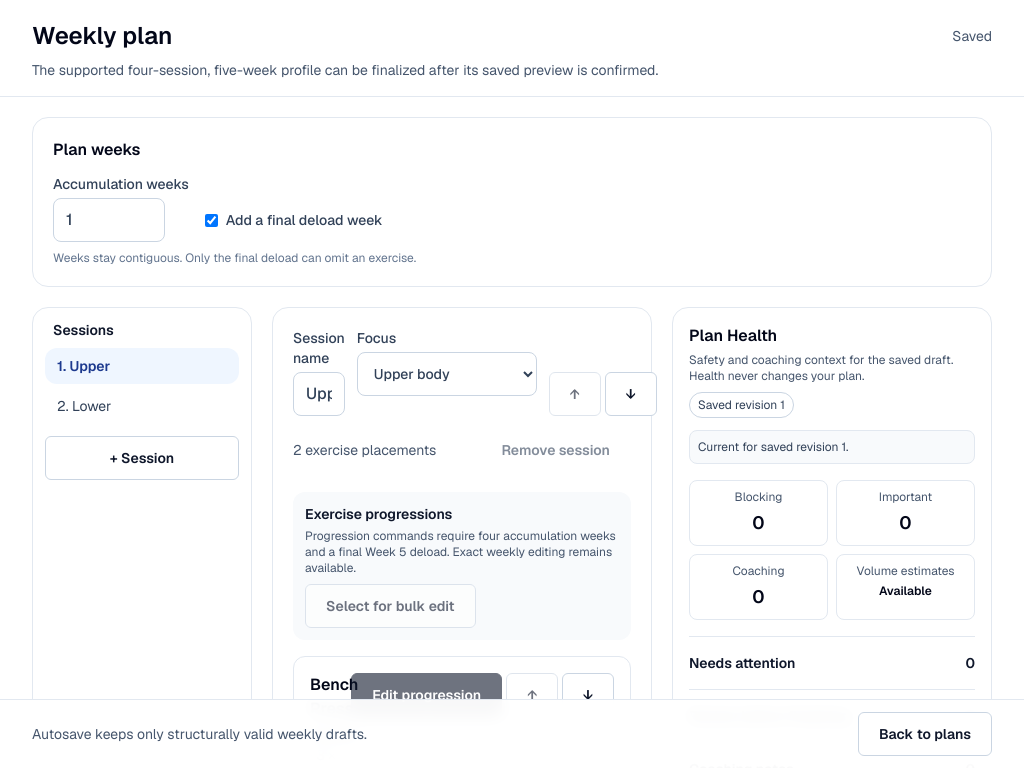
Test case: WeeklyHypertrophyPlanEditor › keeps an older save assessment stale when a newer local edit exists
Replace the text in the field showing "Weekly plan" with "Edit A" at [320, 36], box [32,20,608,52]
Wait 800 ms
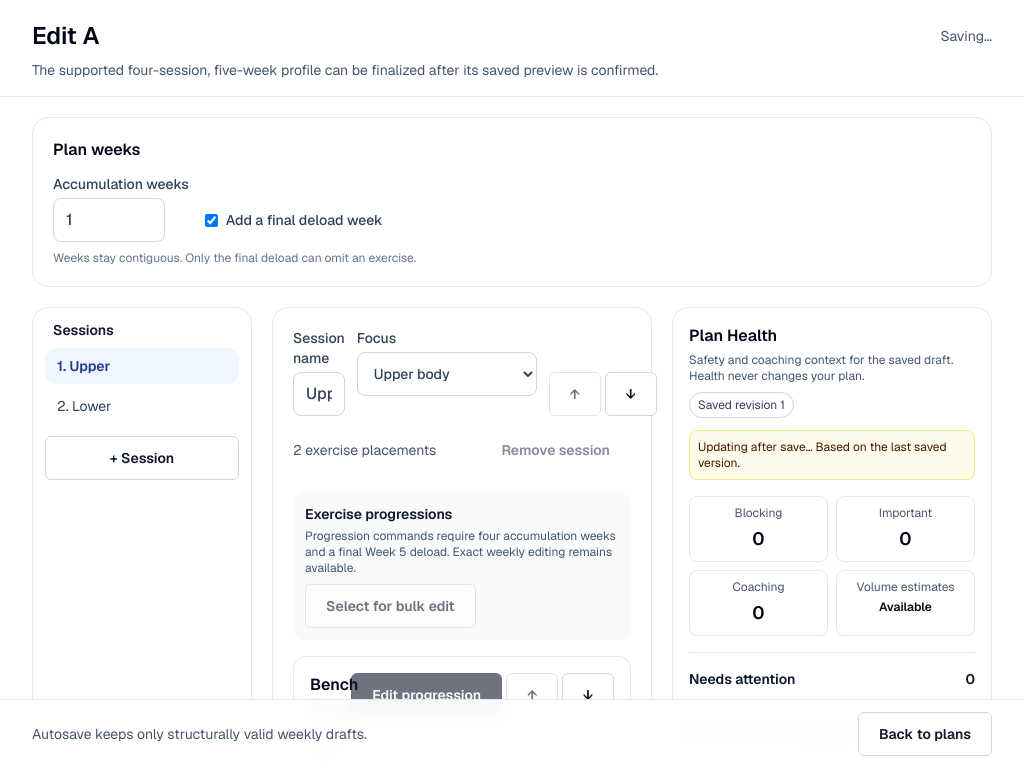
Replace the text in the field showing "Weekly plan" with "Edit B" at [320, 36], box [32,20,608,52]
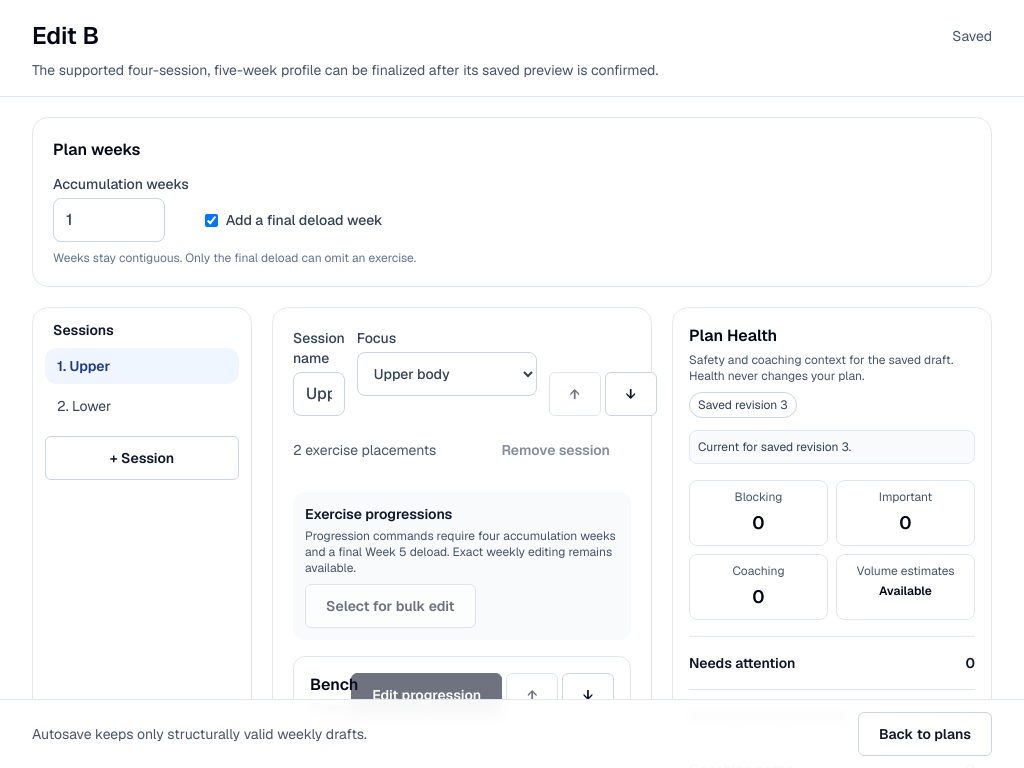
Now the text "Current for saved revision 3." is shown, box [689,430,975,464]
